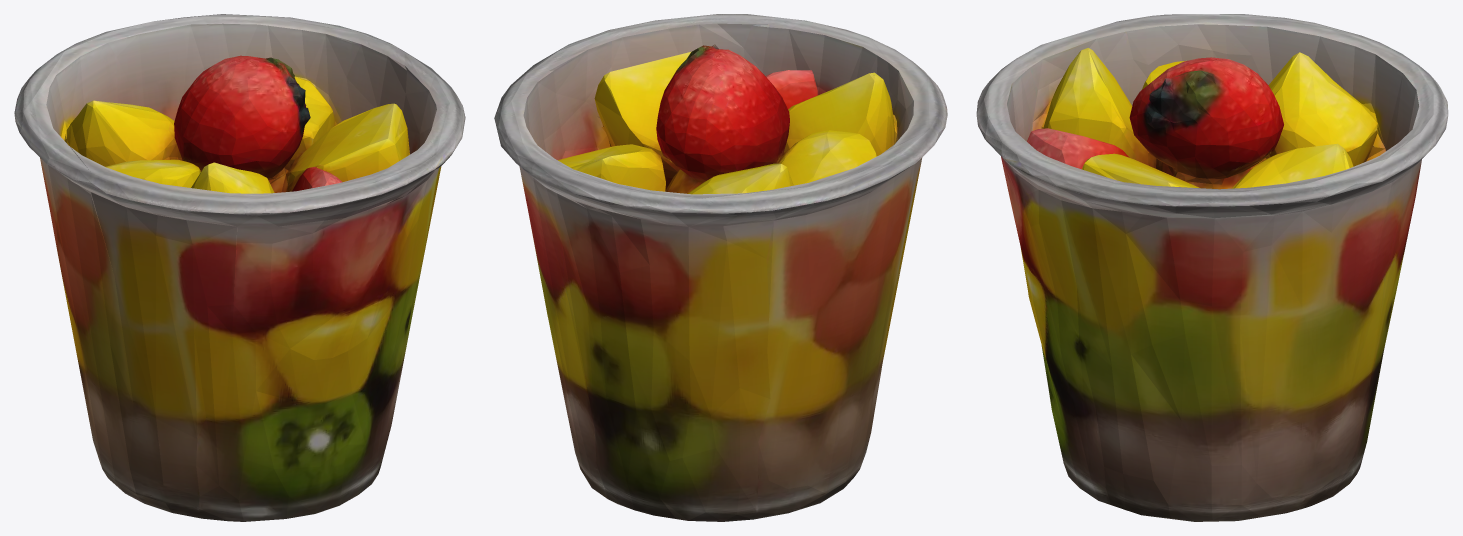
The picture shows the model from 3 angles, left to right: view 1: azimuth 30°, elevation 25°; view 2: azimuth 150°, elevation 25°; view 3: azimuth 270°, elevation 25°; orthographic projection.
Visible parts, largest first — view 1: geometry_0; view 2: geometry_0; view 3: geometry_0.
Part boxes in pixels (x1=…): geometry_0: x1=14, y1=14, x2=465, y2=521; geometry_0: x1=494, y1=14, x2=947, y2=521; geometry_0: x1=976, y1=14, x2=1448, y2=521.
Size of the model in its own units: 0.4741 by 0.4741 by 0.4973.
Materials: 1 (1 with a texture image).
